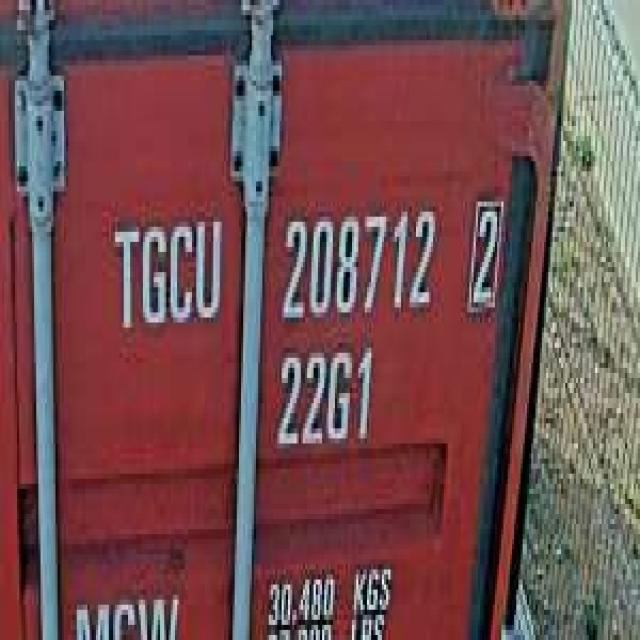dv: (463, 176, 506, 322)
owner: (107, 202, 226, 338)
serial: (275, 192, 440, 328)
size: (271, 338, 375, 458)
